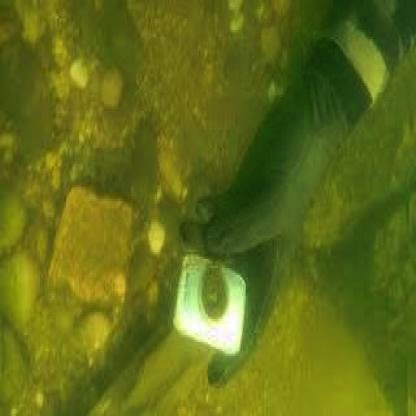electronics: (172, 249, 248, 360)
